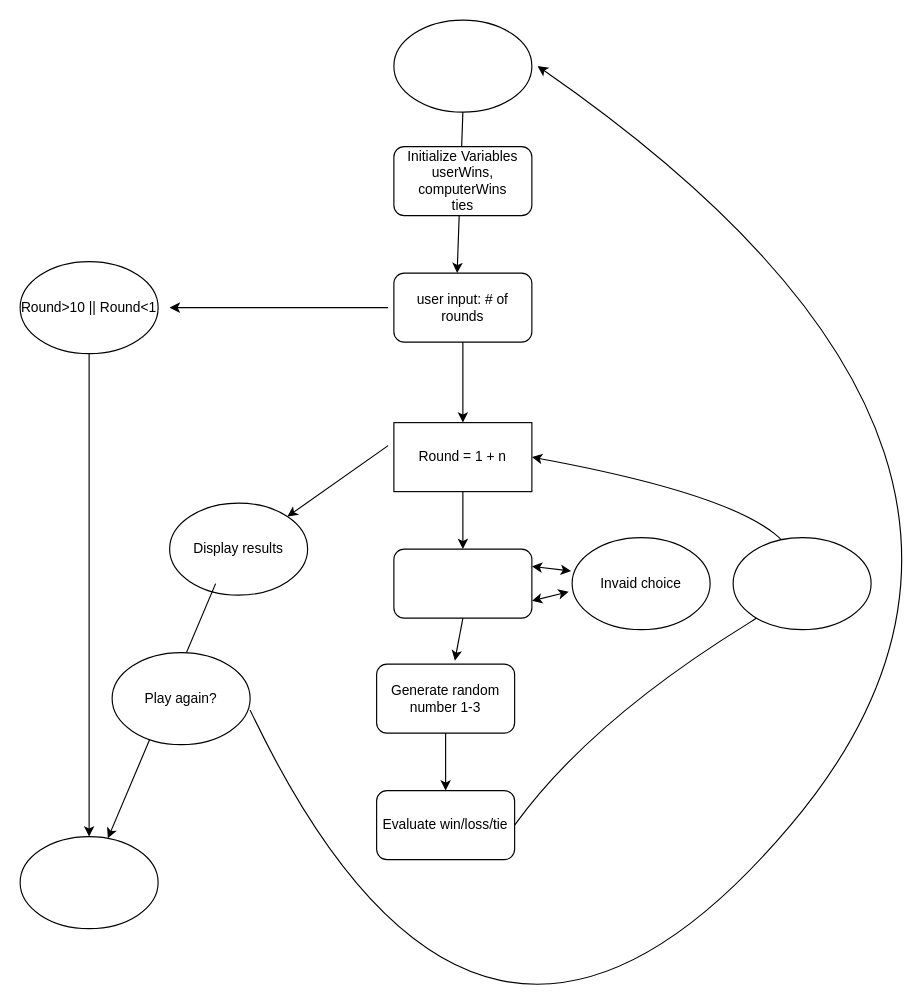
Image size: 922x1005. Some labels were removed from this diagram. The shapes that lost their labels are listed below. From the top down, each one's box as (x1, y1, x2, y2) in pixels, then its label:
(393, 19, 532, 112): Start
(393, 548, 532, 618): User inputs choice (1-3)
(732, 536, 871, 630): Loop rounds dependin on user input
(19, 835, 158, 929): Stop
